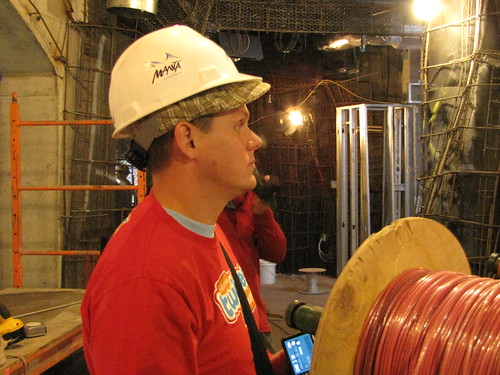person hardhat: (86, 22, 289, 375)
